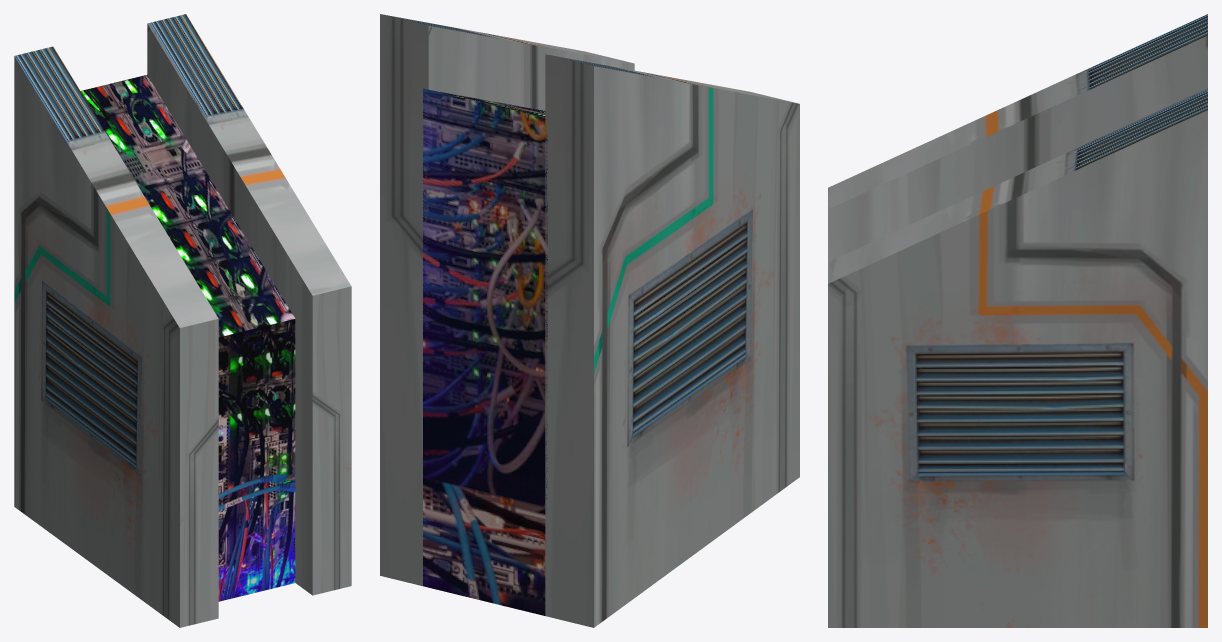
File: MassiveServer.fbx
3 renders of one model, left to right at view 1: azimuth 30°, elevation 25°; view 2: azimuth 150°, elevation 25°; view 3: azimuth 270°, elevation 25°, orthographic. The views are drawn at different scales.
Visible parts, largest first — view 1: ServerSmall; view 2: ServerSmall; view 3: ServerSmall.
Part boxes in pixels (left/top/right/bottom): ServerSmall: left=14, top=14, right=351, bottom=627; ServerSmall: left=380, top=14, right=799, bottom=627; ServerSmall: left=828, top=14, right=1207, bottom=627.
Size of the model in its own units: 0.8946 by 1.49 by 2.25.
